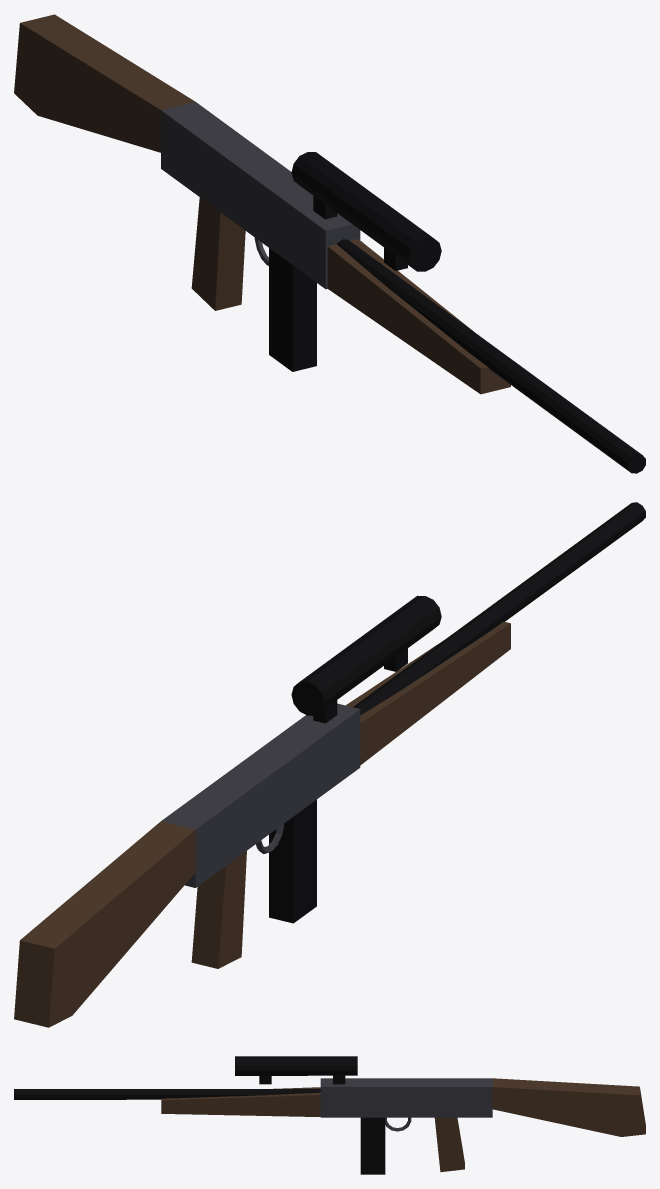
Rendered from rifle.glb.
3 renders of one model, top to bottom at view 1: azimuth 30°, elevation 25°; view 2: azimuth 150°, elevation 25°; view 3: azimuth 270°, elevation 25°, orthographic. The views are drawn at different scales.
Visible parts, largest first — view 1: rifle; view 2: rifle; view 3: rifle.
Boxes of the visible parts, bbox=[...] form: rifle: bbox=[14, 14, 645, 473]; rifle: bbox=[14, 502, 645, 1027]; rifle: bbox=[14, 1056, 645, 1174].
Bounding box in the file's own units: 0.0342 × 0.2059 × 1.03.
